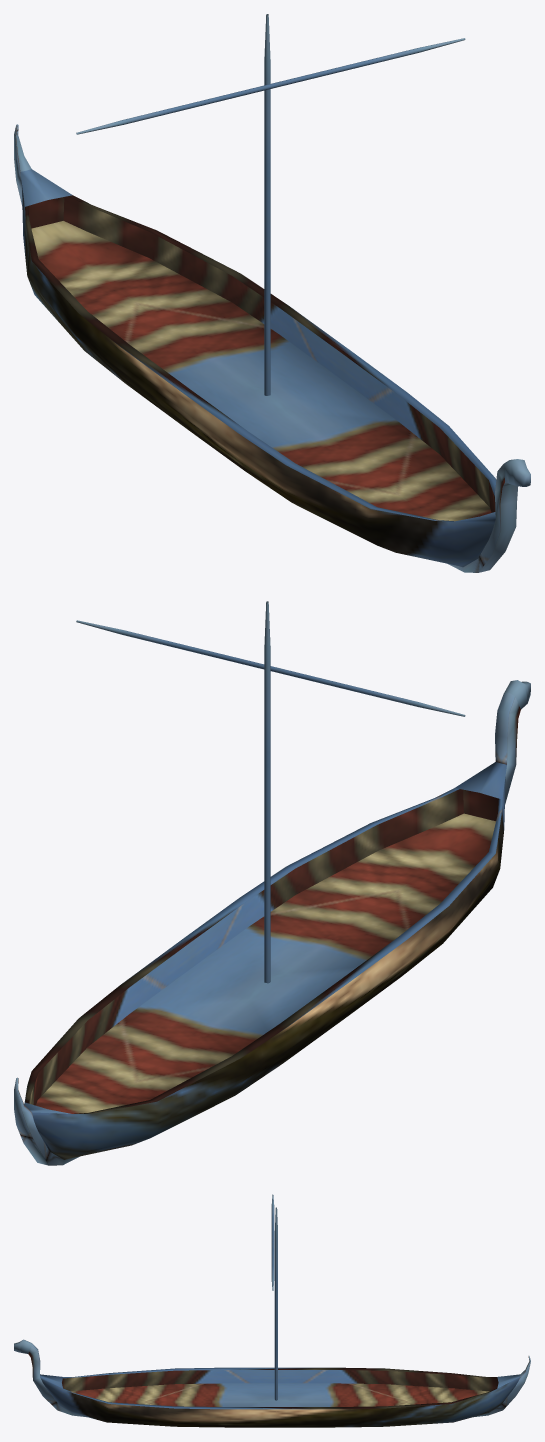
The model's file is viking_longboat.dae.
3 views of the same model, one above another, from view 1: azimuth 30°, elevation 25°; view 2: azimuth 150°, elevation 25°; view 3: azimuth 270°, elevation 25° (orthographic). The views are drawn at different scales.
Visible parts, largest first — view 1: Circle; view 2: Circle; view 3: Circle.
Part boxes in pixels (bbox=[...]): Circle: bbox=[14, 14, 530, 572]; Circle: bbox=[14, 601, 530, 1165]; Circle: bbox=[14, 1194, 530, 1427].
Bounding box in the file's own units: 24.84 × 56.71 × 25.63.
